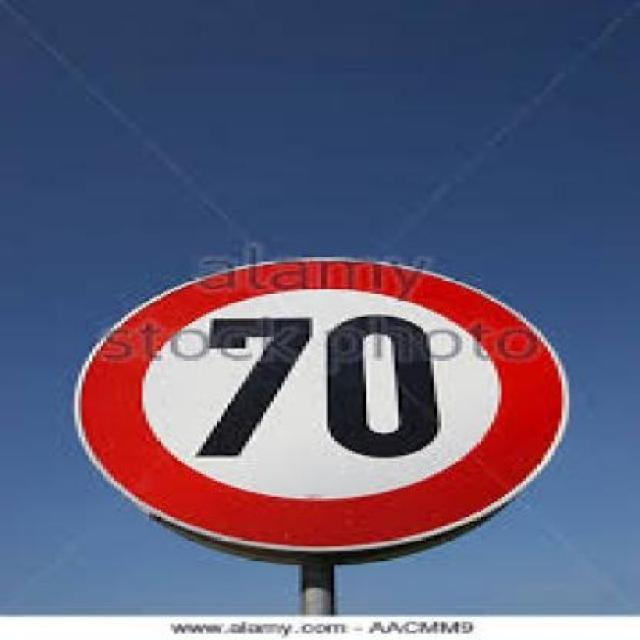forb_speed_over_70: (86, 273, 563, 547)
